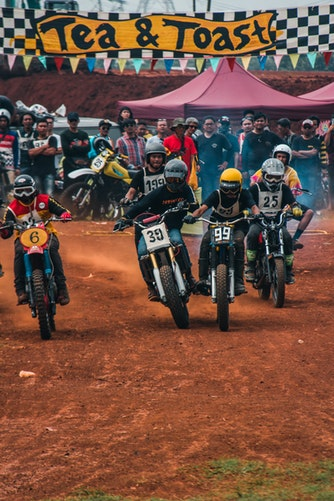helmet: (14, 172, 40, 207), (159, 157, 188, 185), (140, 133, 168, 162), (264, 159, 293, 181), (218, 173, 244, 194)
